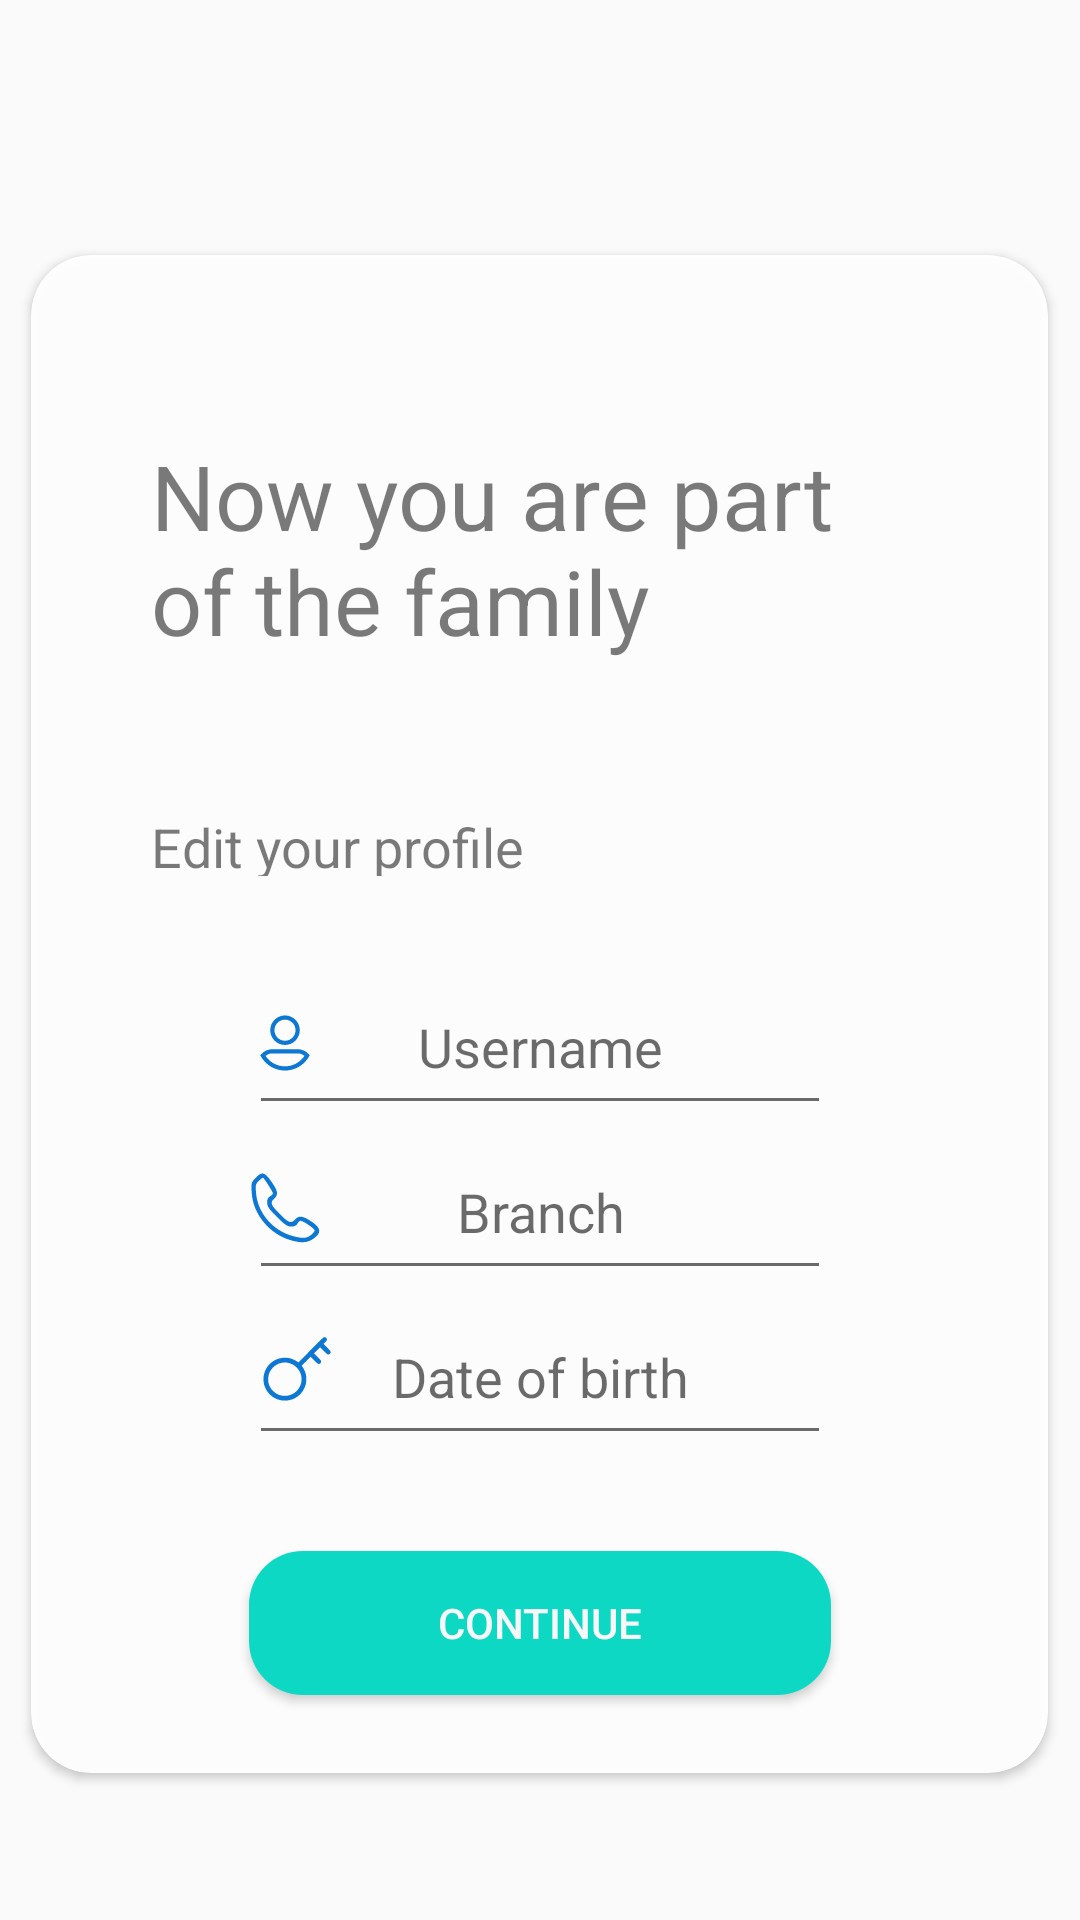

Named icons in this screenshot (1080×1920) and their bounding boxes, (x1, y1, x2, y2):
key: (263, 1337, 331, 1401)
phone: (251, 1173, 320, 1243)
